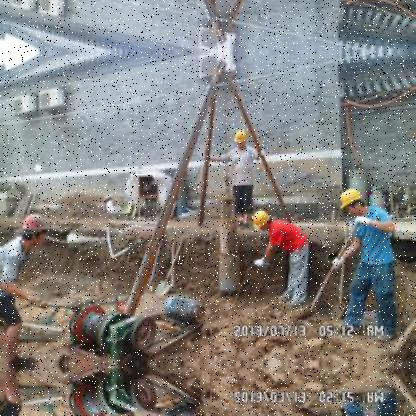Helmet: (23, 212, 56, 256), (335, 186, 372, 219), (254, 204, 275, 235), (233, 129, 258, 150)
